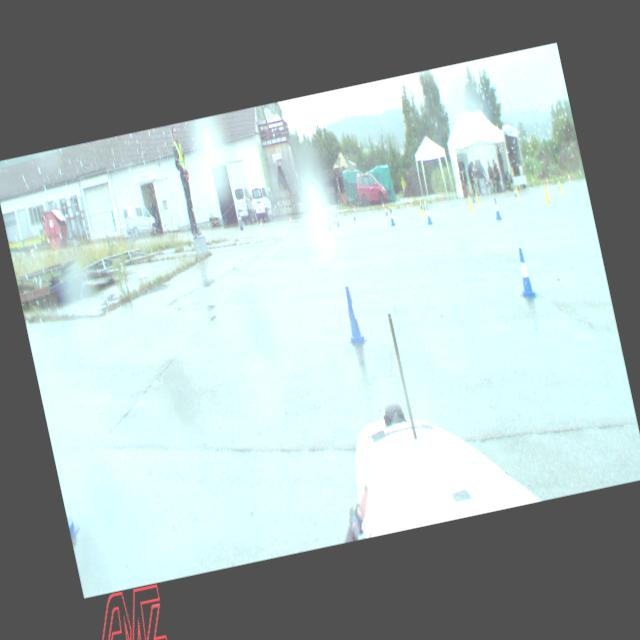blue_cone: (337, 284, 367, 344), (511, 245, 536, 298), (492, 197, 502, 220), (424, 204, 432, 224), (388, 208, 395, 225), (326, 215, 332, 229), (334, 214, 340, 226), (322, 214, 327, 227), (383, 205, 388, 215), (556, 179, 560, 190), (512, 186, 516, 197), (331, 214, 335, 224), (421, 199, 425, 209), (352, 211, 356, 220), (471, 194, 475, 202)
orange_cone: (566, 172, 570, 182), (544, 176, 548, 185), (439, 192, 443, 200), (259, 219, 262, 227), (409, 198, 412, 206), (382, 202, 384, 210), (289, 216, 291, 223), (354, 206, 356, 213)
yellow_cone: (542, 185, 550, 201), (467, 194, 473, 210), (418, 202, 424, 214), (474, 192, 480, 204), (423, 200, 428, 212), (515, 186, 519, 198), (558, 180, 562, 192), (389, 205, 393, 217)
